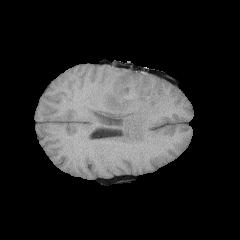glioma: (96, 68, 165, 141)
